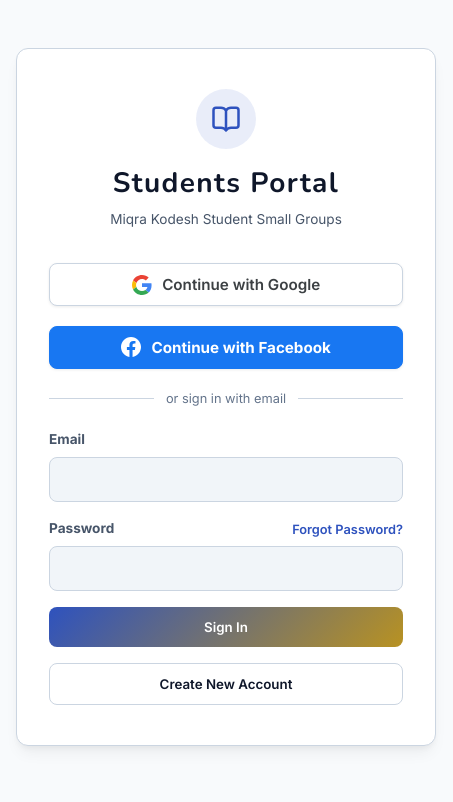
it: Auth Component › toggles to sign-up mode and displays join code field
Click the button "Create New Account" at x=226, y=684, box [49,663,403,705]
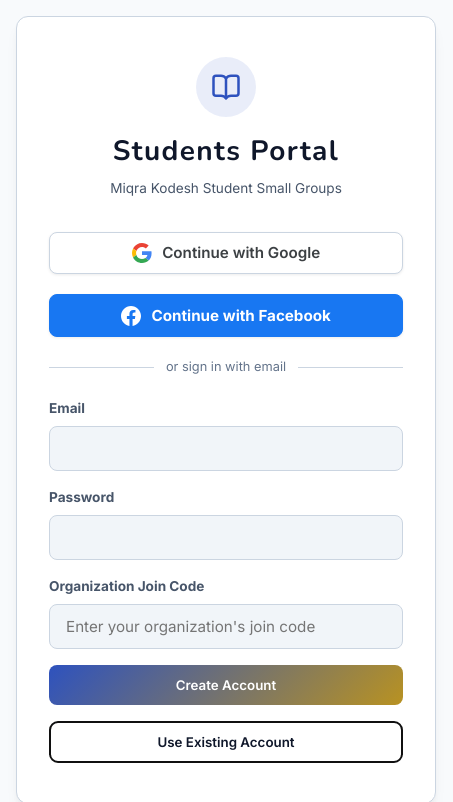
expect the button "Create Account" is shown: met, box [49,665,403,705]
expect the field labelled "Organization Join Code" is shown: met, box [49,604,403,649]
